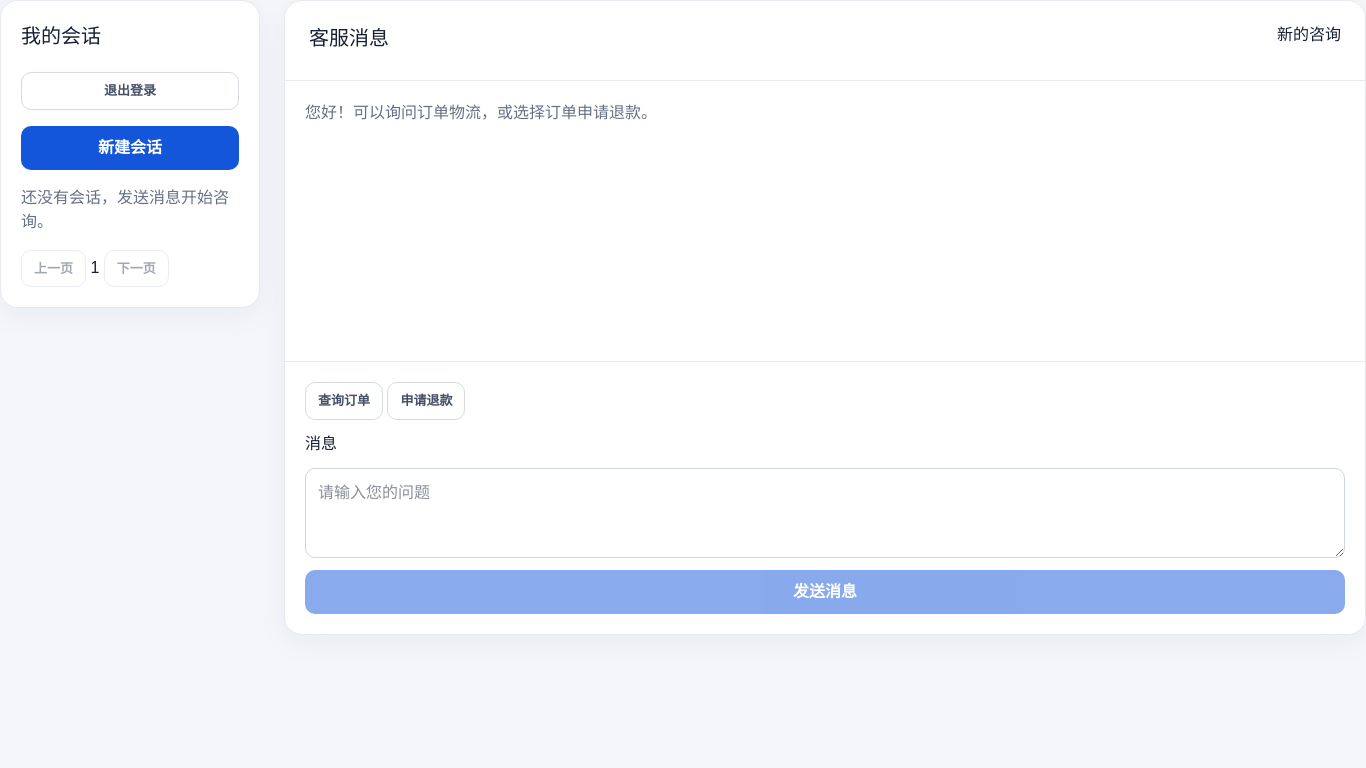
Test: requires order selection, sends only customer input and displays persisted replies
This screenshot has width=1366, height=768.
Click the button "申请退款".
click(426, 401)  # box [388, 382, 466, 420]
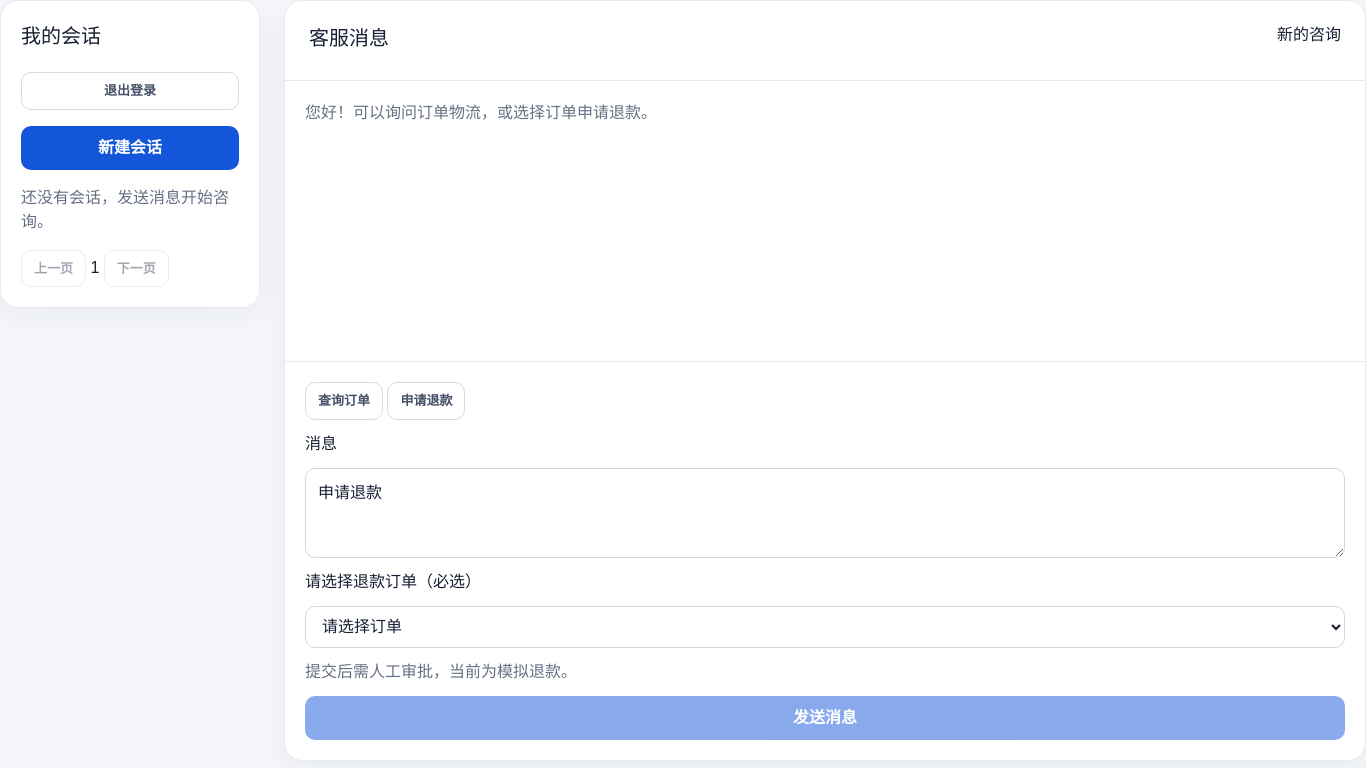
Expected: the button "发送消息" is disabled, [305, 696, 1345, 740]
Select "order-1001 · 耳机" in the dropdown labelled "请选择退款订单（必选）" at {"x": 825, "y": 626}, box [305, 606, 1345, 648]
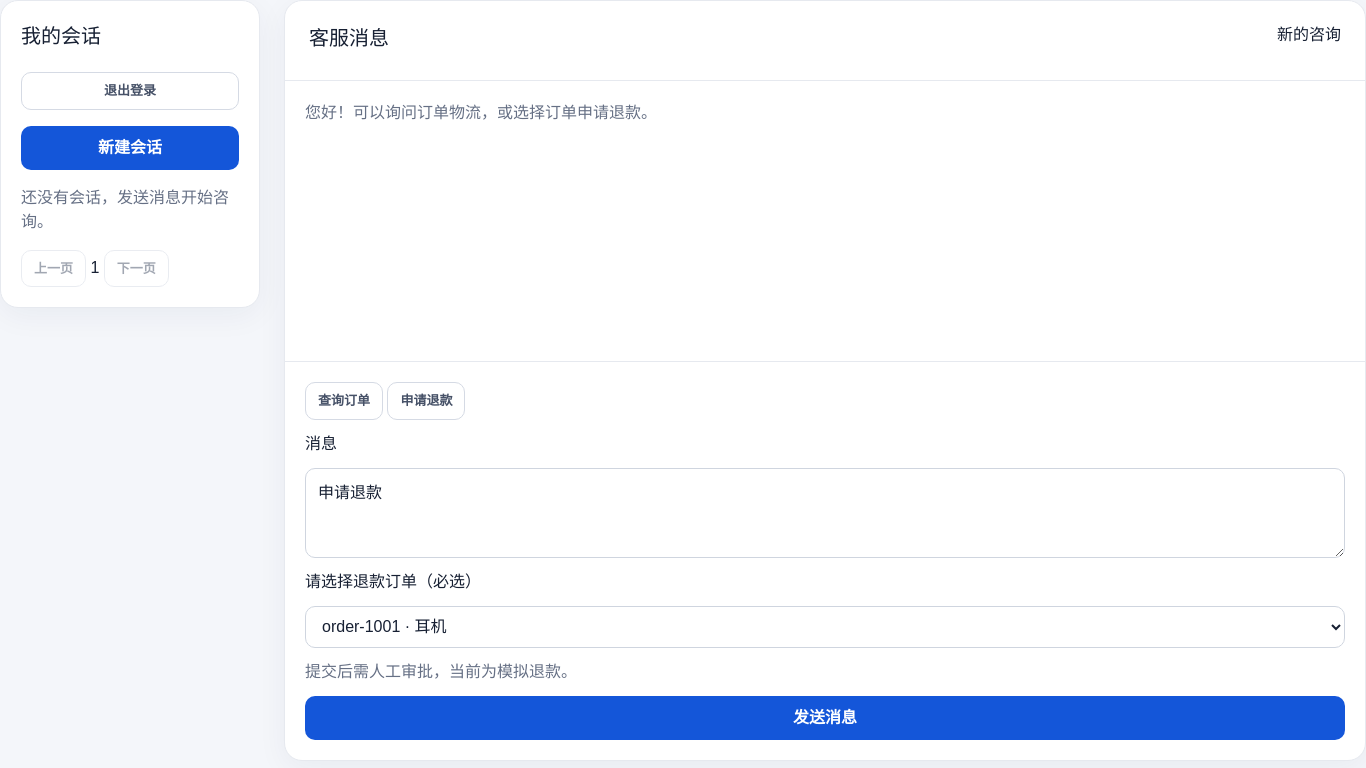
Click the button "发送消息".
click(825, 718)  # box [305, 696, 1345, 740]
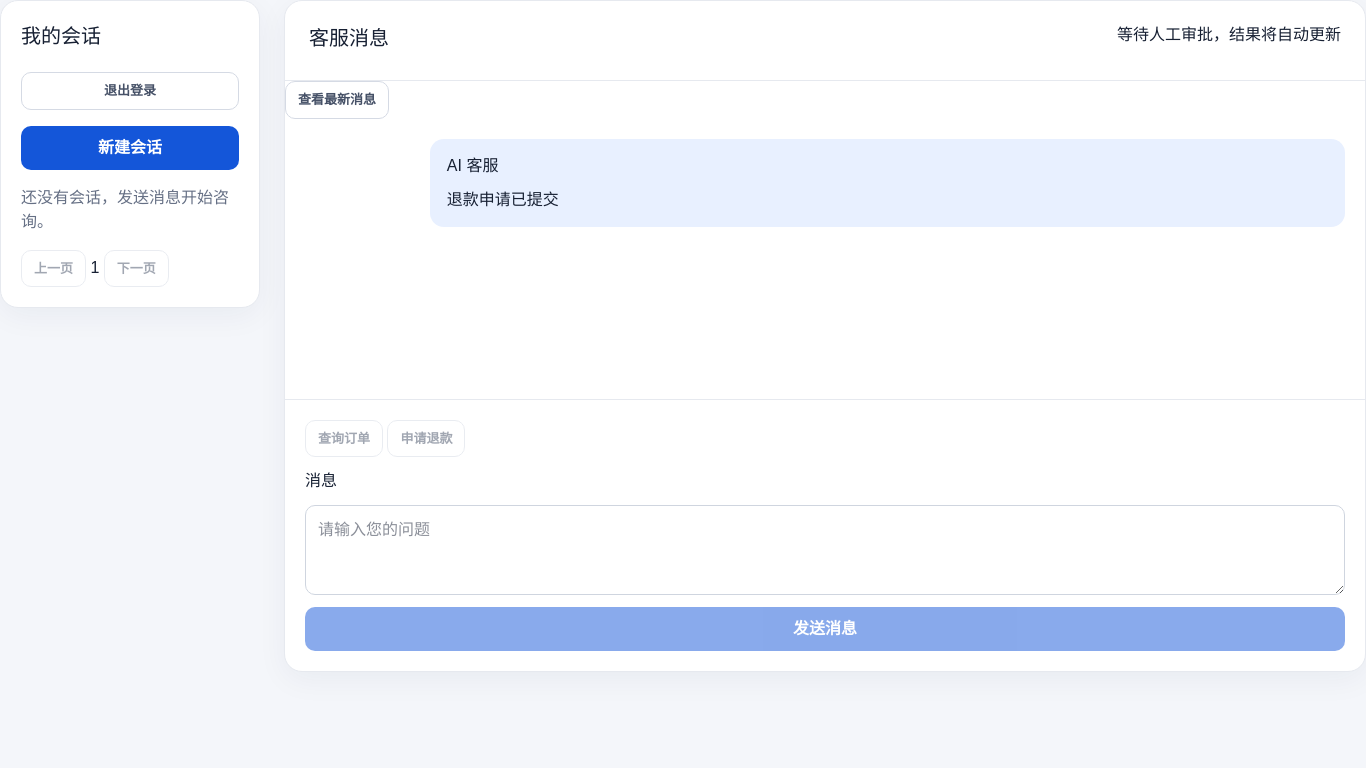
Now the text "退款申请已提交" is shown, box [447, 190, 559, 208]
Now the button "发送消息" is disabled, box [305, 607, 1345, 651]
